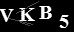5: (58, 14, 69, 29)
B: (38, 5, 53, 20)
K: (18, 7, 36, 22)
V: (1, 8, 14, 23)
